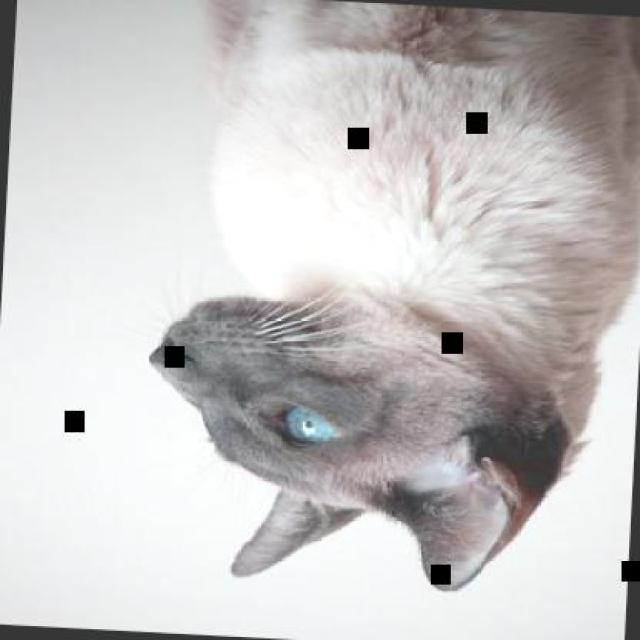cat: (134, 0, 638, 605)
